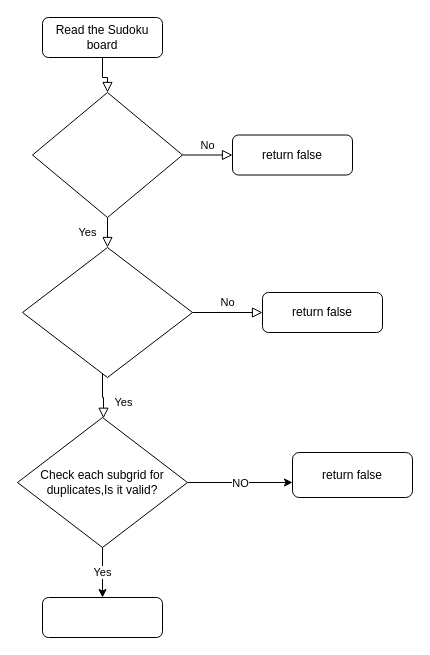
The diagram is 430 pixels wide and 655 high, and some of its shapes have lost their labels. Here are the shapes that lost their labels. From the top down, the centre of each, then its label:
the point at 107,155: Check each row for duplicates,Is it valid?
the point at 107,312: Check each column for duplicates,Is it valid?
the point at 102,617: return true
